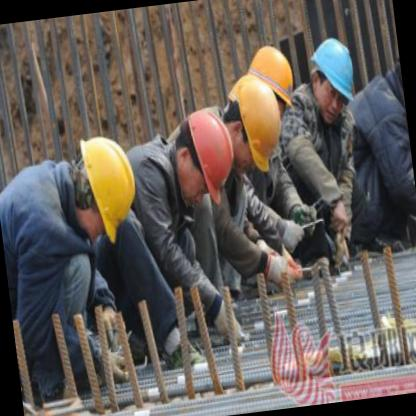helmet: (70, 129, 142, 237), (170, 105, 244, 202), (218, 69, 286, 174), (244, 38, 301, 144), (303, 30, 364, 123)
